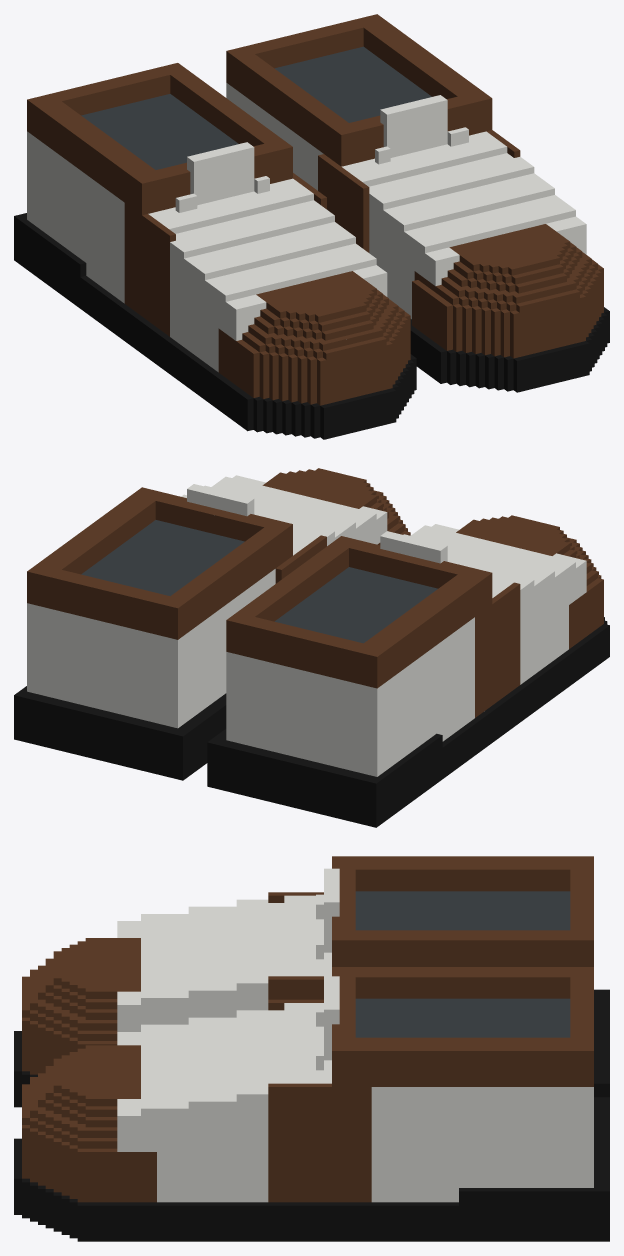
File: golf_shoes.glb
The picture shows the model from 3 angles, top to bottom: view 1: azimuth 30°, elevation 25°; view 2: azimuth 150°, elevation 25°; view 3: azimuth 270°, elevation 25°; orthographic projection. The views are drawn at different scales.
Parts seen in each view (by area): view 1: golf_shoes:compound; view 2: golf_shoes:compound; view 3: golf_shoes:compound.
Part boxes in pixels (x1,y1,x2,y2): golf_shoes:compound: (14, 14, 609, 439); golf_shoes:compound: (14, 468, 609, 827); golf_shoes:compound: (14, 856, 609, 1241).
Size of the model in its own units: 0.24 by 0.12 by 0.3.
